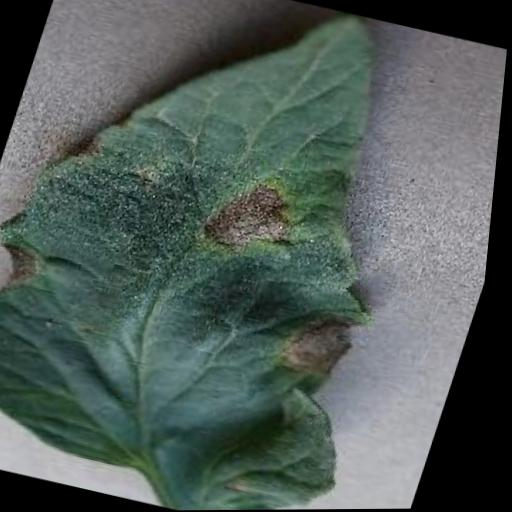Early Blight: (0, 0, 479, 512)
